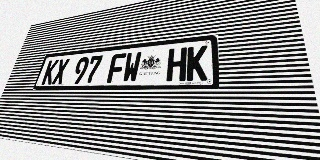7: (84, 55, 103, 84)
9: (71, 56, 90, 84)
F: (106, 53, 126, 83)
H: (166, 47, 187, 82)
K: (186, 45, 208, 81), (41, 59, 59, 85)
W: (122, 52, 142, 83)
X: (51, 58, 70, 84)
